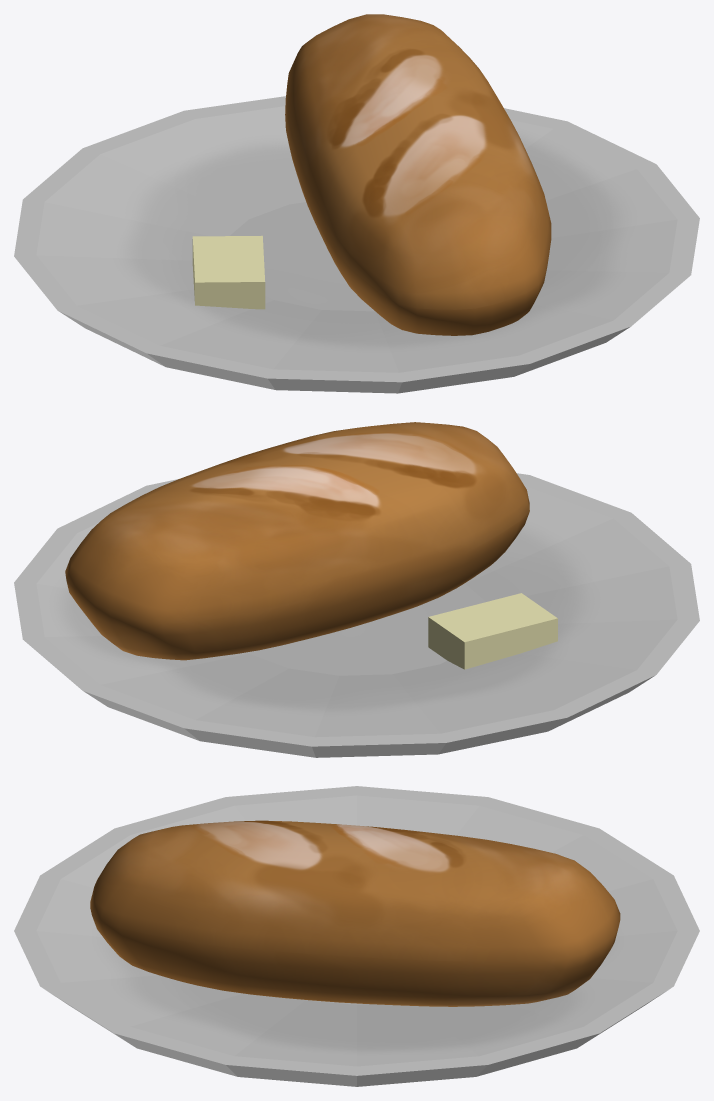
The model's file is Bread.fbx.
3 views of the same model, one above another, from view 1: azimuth 30°, elevation 25°; view 2: azimuth 150°, elevation 25°; view 3: azimuth 270°, elevation 25° (orthographic).
Visible parts, largest first — view 1: Dish, Bread, Butter; view 2: Dish, Bread, Butter; view 3: Bread, Dish.
Part boxes in pixels (x1,y1,x2,y2): Dish: (14, 96, 699, 393); Bread: (285, 14, 551, 335); Butter: (192, 235, 265, 309); Dish: (14, 473, 699, 757); Bread: (65, 422, 529, 660); Butter: (428, 593, 557, 669); Bread: (90, 820, 620, 1006); Dish: (14, 786, 699, 1086).
Size of the model in its own units: 260 by 72.05 by 260.
